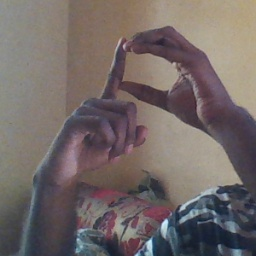P: (78, 24, 220, 168)
